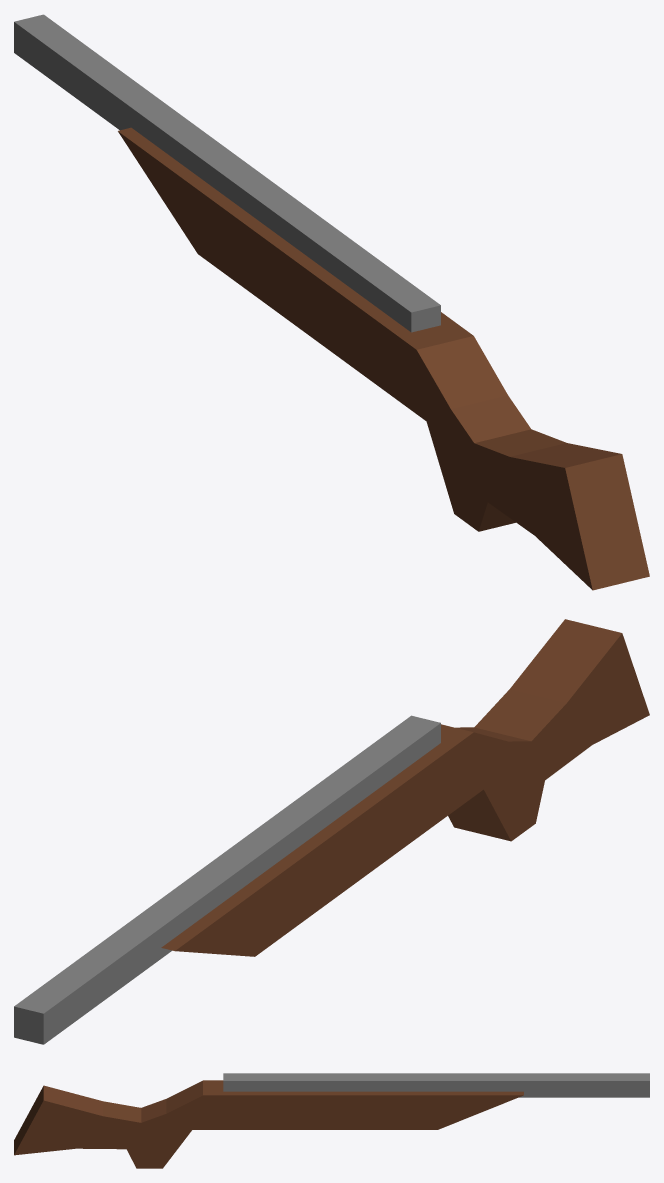
File: rifle.fbx
The picture shows the model from 3 angles, top to bottom: view 1: azimuth 30°, elevation 25°; view 2: azimuth 150°, elevation 25°; view 3: azimuth 270°, elevation 25°; orthographic projection. The views are drawn at different scales.
Parts seen in each view (by area): view 1: Cube; view 2: Cube; view 3: Cube.
Boxes of the visible parts, bbox=[...] form: Cube: bbox=[14, 14, 649, 590]; Cube: bbox=[14, 619, 649, 1044]; Cube: bbox=[14, 1073, 649, 1168].
Size of the model in its own units: 60.68 by 159 by 1088.
